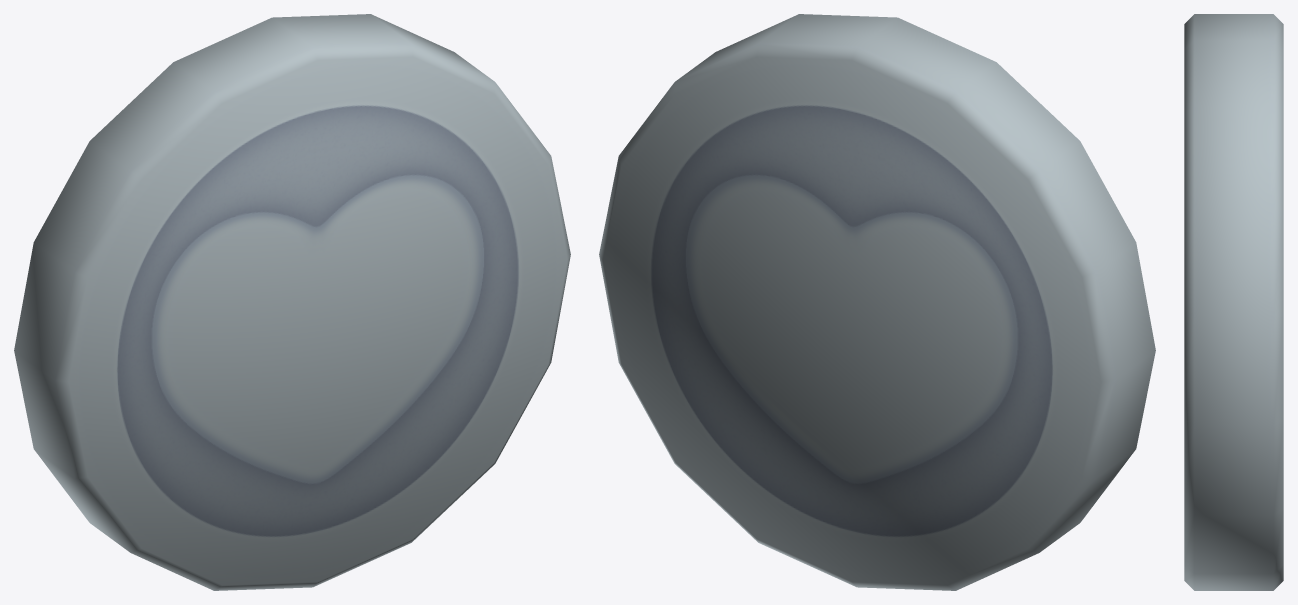
Rendered from Coin_Heart_Silver.FBX.
The picture shows the model from 3 angles, left to right: view 1: azimuth 30°, elevation 25°; view 2: azimuth 150°, elevation 25°; view 3: azimuth 270°, elevation 25°; orthographic projection. The views are drawn at different scales.
Parts seen in each view (by area): view 1: Coin_Heart_Silver; view 2: Coin_Heart_Silver; view 3: Coin_Heart_Silver.
Part boxes in pixels (bbox=[...]): Coin_Heart_Silver: bbox=[14, 14, 570, 590]; Coin_Heart_Silver: bbox=[599, 14, 1155, 590]; Coin_Heart_Silver: bbox=[1184, 14, 1283, 590].
Size of the model in its own units: 70 by 70 by 12.
1 material, 1 textured.
